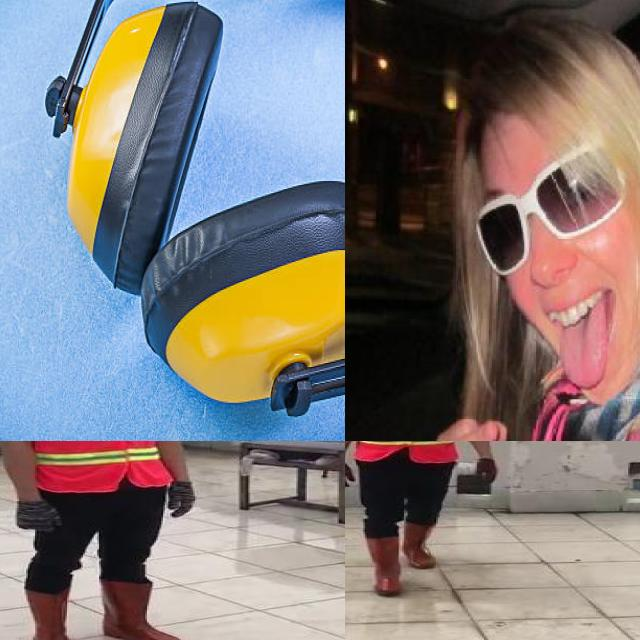Ear-protection: (17, 0, 345, 425)
boots: (107, 576, 182, 640), (12, 584, 90, 640), (363, 537, 404, 597), (402, 519, 438, 570)
face_nomask: (466, 162, 640, 385)
glasses: (470, 140, 628, 278)
hand_glove: (162, 480, 208, 521), (23, 500, 58, 532), (475, 458, 498, 485), (345, 462, 354, 488)
hand_noglove: (424, 408, 517, 441)
head_nohelmet: (443, 36, 621, 142)
person: (0, 441, 193, 640), (345, 441, 508, 599)
vest: (10, 441, 172, 492), (352, 441, 457, 464)
